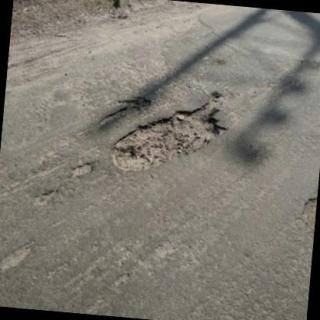pothole: (111, 92, 228, 172), (98, 98, 151, 127), (71, 164, 93, 178), (35, 191, 54, 207)
